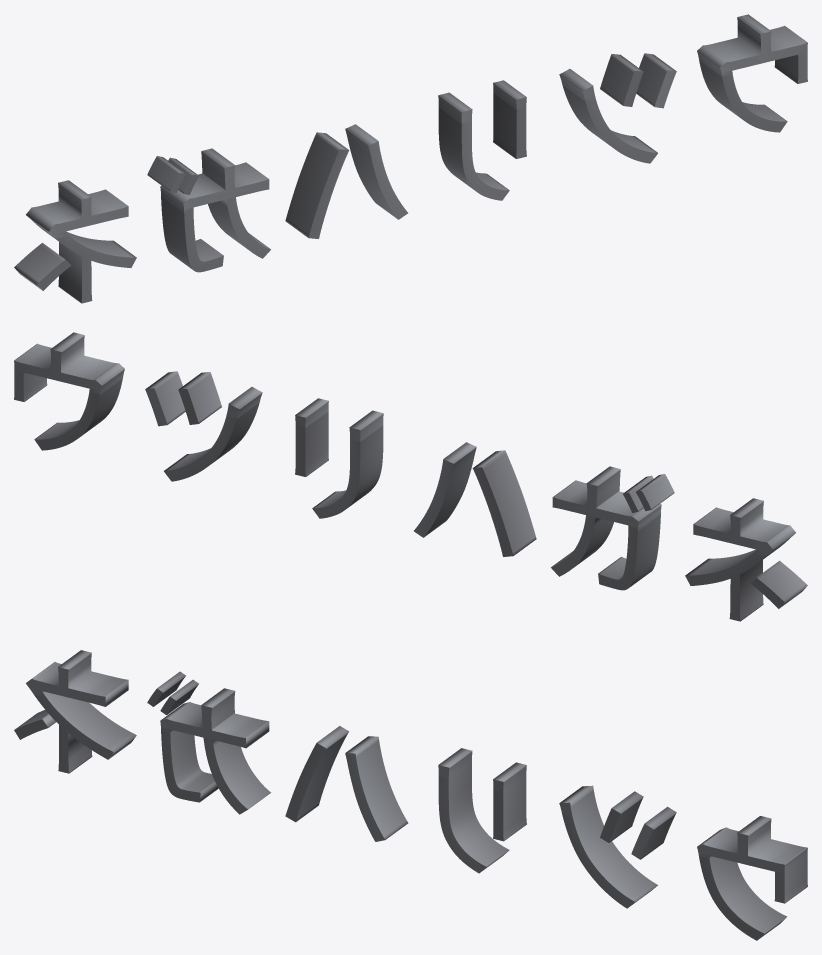
Rendered from title.obj.
The picture shows the model from 3 angles, top to bottom: view 1: azimuth 30°, elevation 25°; view 2: azimuth 150°, elevation 25°; view 3: azimuth 330°, elevation 25°; orthographic projection.
Parts seen in each view (by area): view 1: テキスト; view 2: テキスト; view 3: テキスト.
Boxes of the visible parts, x1=… form: テキスト: x1=14, y1=14, x2=807, y2=303; テキスト: x1=14, y1=332, x2=807, y2=621; テキスト: x1=14, y1=650, x2=807, y2=940.
Size of the model in its own units: 6.54 by 0.866 by 0.34.
Materials: 1 (1 with a texture image).
